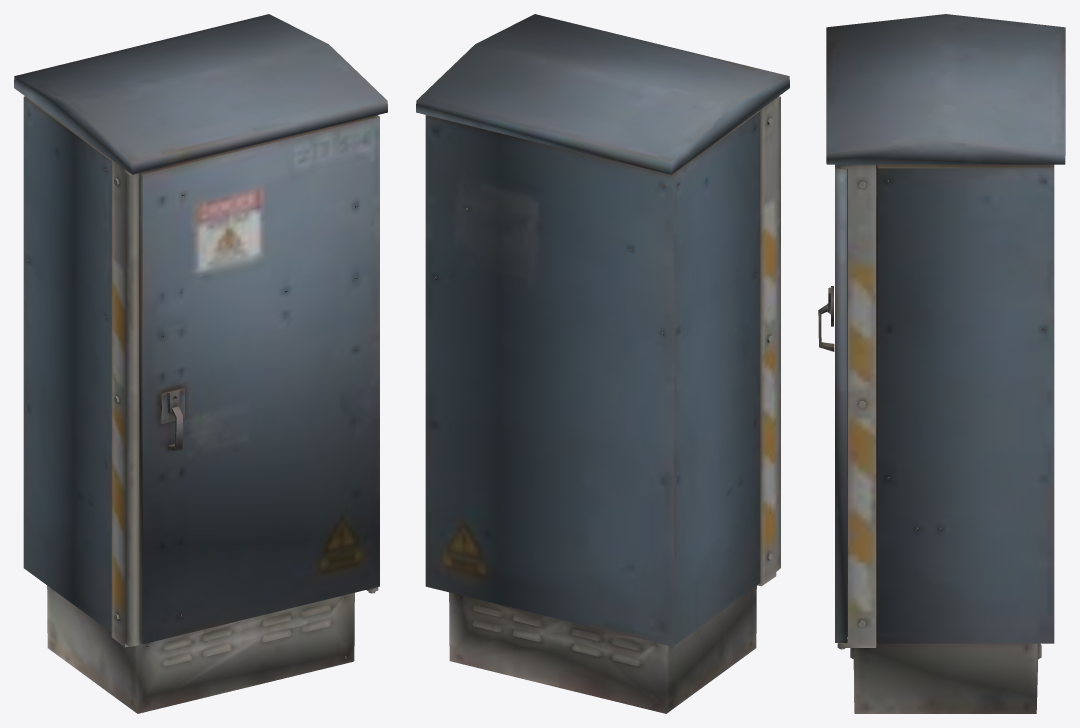
File: utility_box_01.glb
3 renders of one model, left to right at view 1: azimuth 30°, elevation 25°; view 2: azimuth 150°, elevation 25°; view 3: azimuth 270°, elevation 25°, orthographic.
Visible parts, largest first — view 1: utility_box_01_box; view 2: utility_box_01_box; view 3: utility_box_01_box.
Part boxes in pixels (bbox=[...]): utility_box_01_box: bbox=[14, 14, 387, 713]; utility_box_01_box: bbox=[416, 14, 789, 713]; utility_box_01_box: bbox=[818, 14, 1065, 713].
Bounding box in the file's own units: 0.5164 × 1.12 × 0.4287.
Materials: 1 (1 with a texture image).
